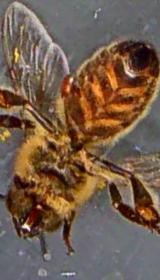varroa_mite: (57, 66, 87, 99)
